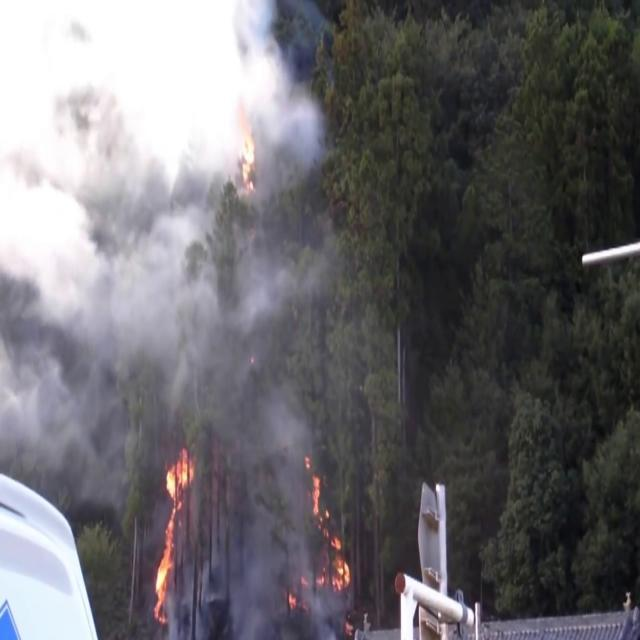Fire: (148, 450, 194, 622), (304, 458, 352, 591), (240, 133, 260, 185), (286, 591, 298, 612)
Smoke: (112, 212, 222, 372), (0, 345, 106, 477), (238, 214, 345, 332), (263, 86, 343, 168), (240, 496, 280, 640), (288, 90, 333, 190), (169, 341, 197, 421), (227, 558, 245, 640), (201, 558, 208, 632)
